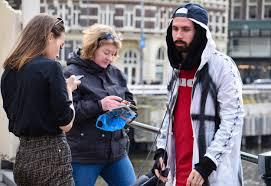Person: (154, 3, 244, 186), (1, 13, 81, 186), (81, 23, 138, 186)
